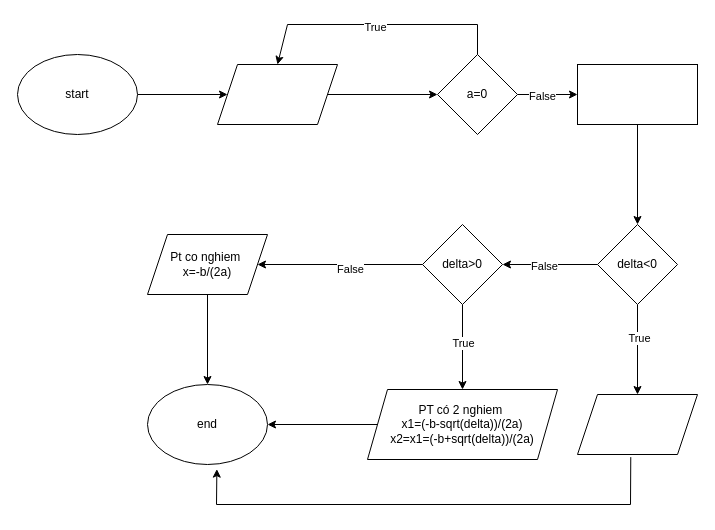
Some shapes in this 715 by 530 pixel diagram are drawn without their labels. The shapes that lost their labels are listed below. From the top down, each one's centre as x and y in pixels, then its label:
At point (277, 94): "a,b,c".
At point (637, 94): "delta=b*b-4*a*c".
At point (637, 424): "Phương trình vô nghiệm".
